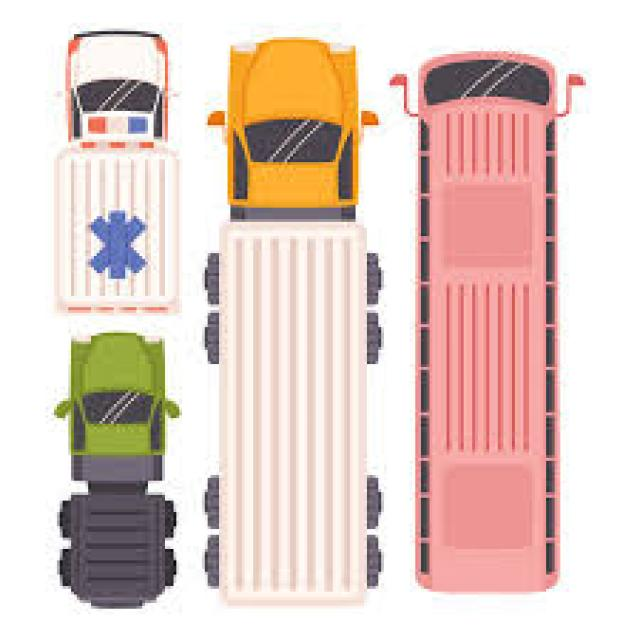truck: (225, 40, 367, 602)
